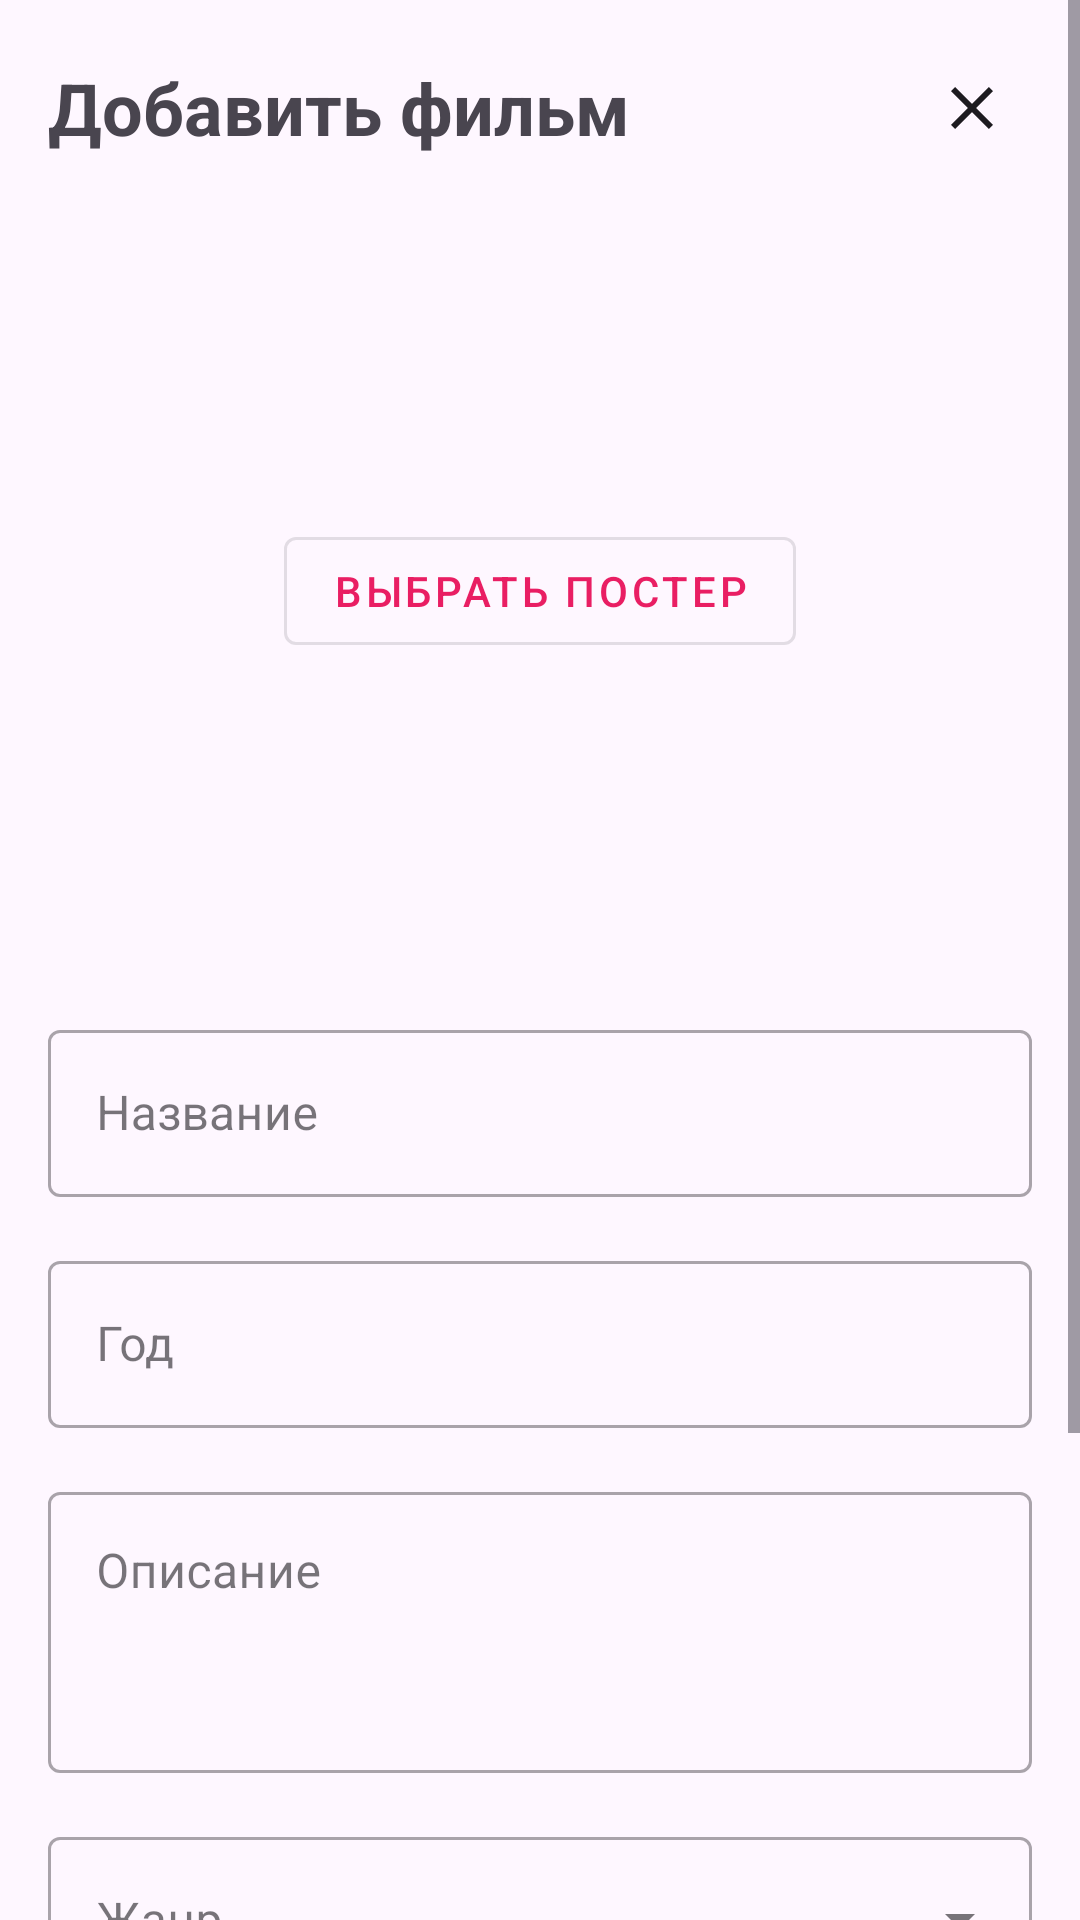

Screen size 1080x1920. Icon name, then its box in pixels as (left=x1, top=y1, right=x2, bottom=y2):
Закрыть: (left=951, top=87, right=993, bottom=129)
